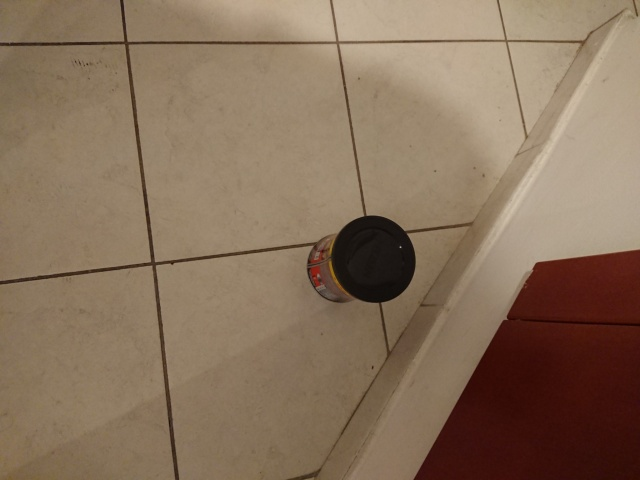Nescafe Classic 225g: (304, 213, 419, 307)
